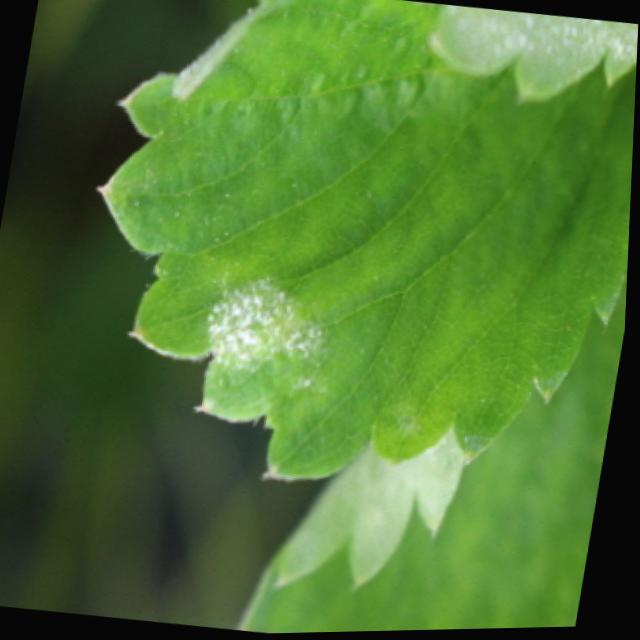Powdery Mildew Leaf: (96, 0, 639, 484), (241, 275, 630, 635)
